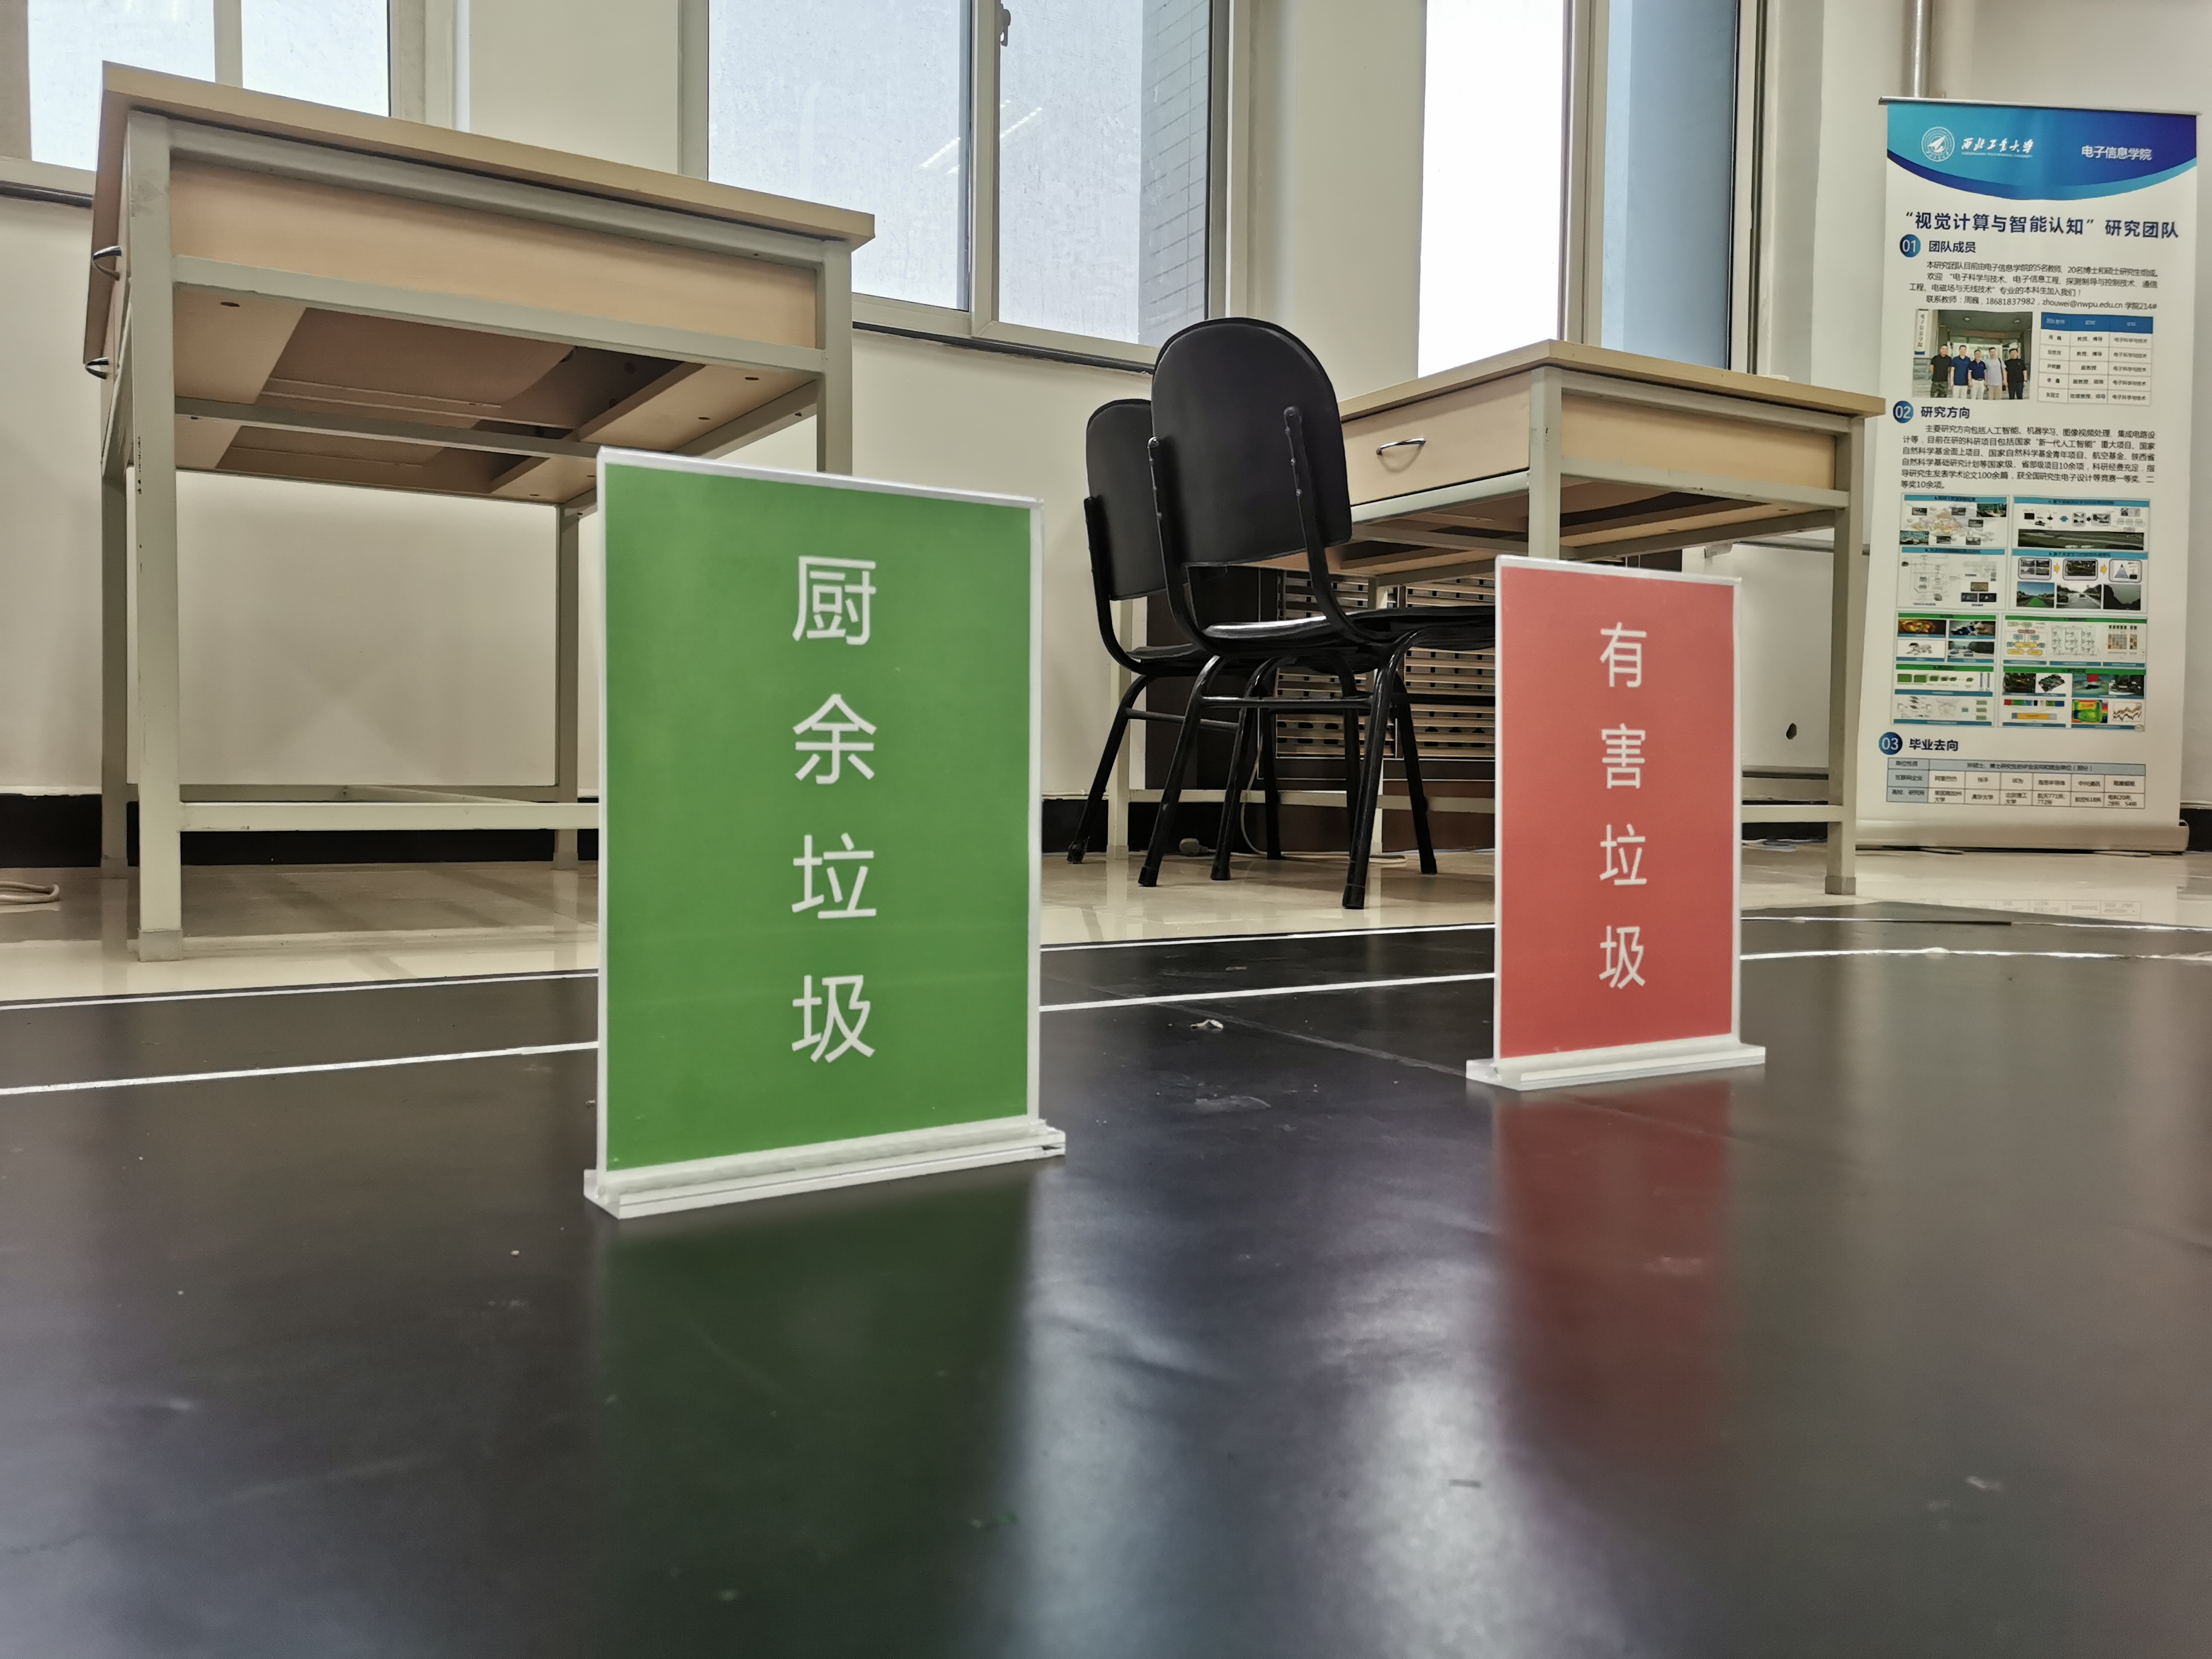green: (620, 514, 1021, 1112)
red: (1503, 591, 1730, 1023)
